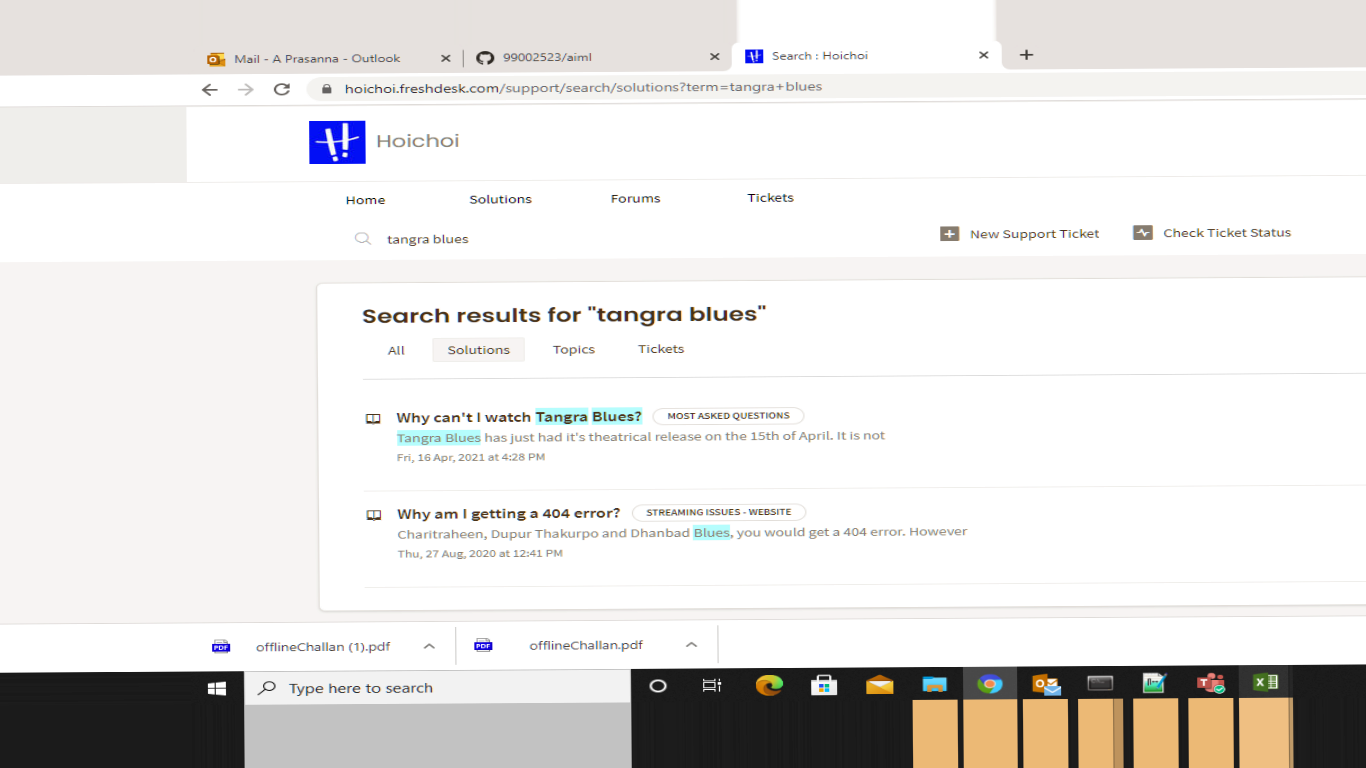resultsfound: (357, 289, 778, 334)
searchicon: (349, 227, 378, 255)
searchtextbox: (348, 225, 920, 256)
